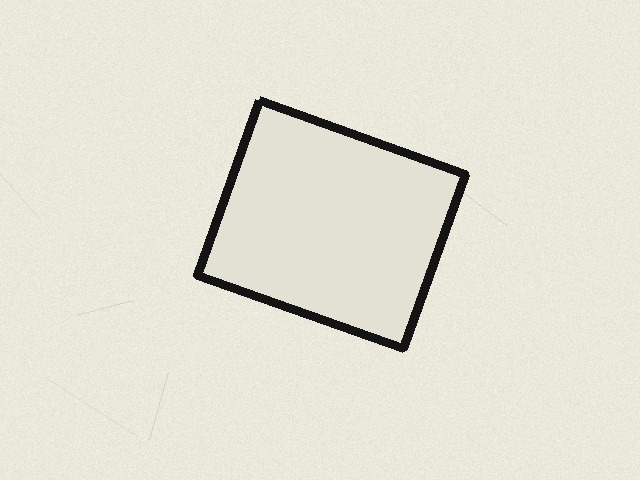parking_area: (197, 100, 465, 348)
